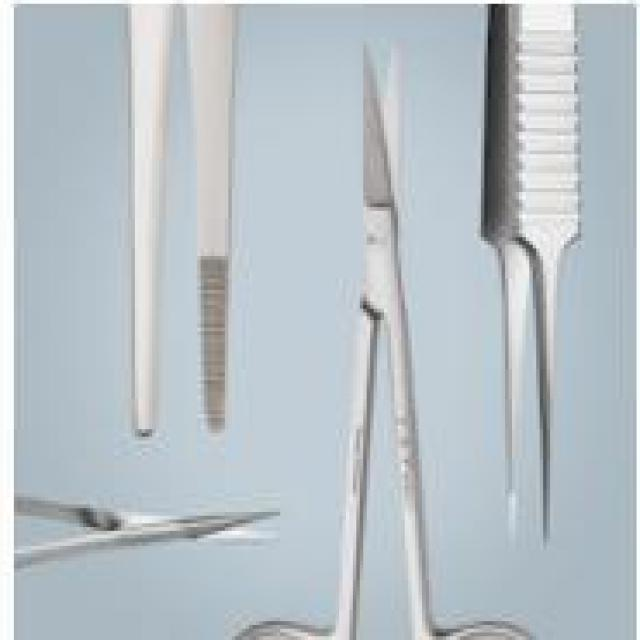Forceps: (474, 0, 581, 554), (121, 3, 246, 444)
Iris: (232, 38, 540, 640), (14, 490, 287, 572)
